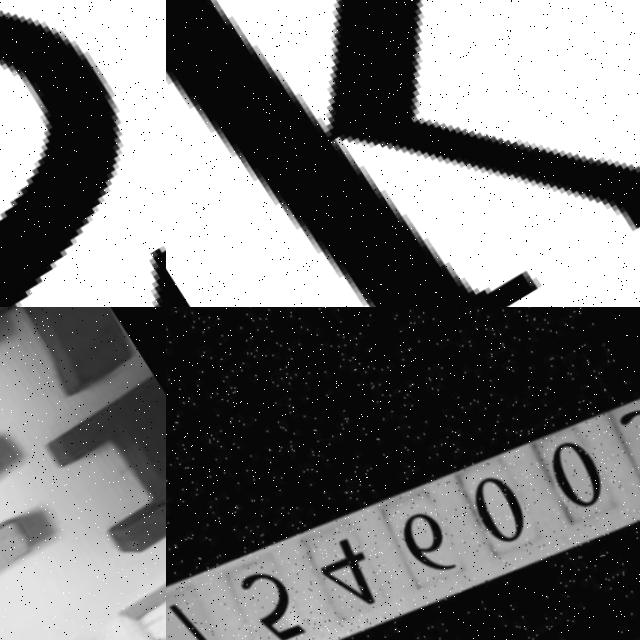0: (440, 458, 547, 571), (521, 427, 622, 533)
3: (594, 401, 640, 502)
4: (287, 522, 397, 637)
5: (209, 554, 317, 640)
6: (371, 498, 469, 602)
7: (166, 580, 241, 640)
J: (0, 307, 146, 458)
K: (166, 0, 640, 307)
L: (0, 512, 91, 640)
S: (0, 0, 166, 307)
Z: (102, 532, 166, 640)
